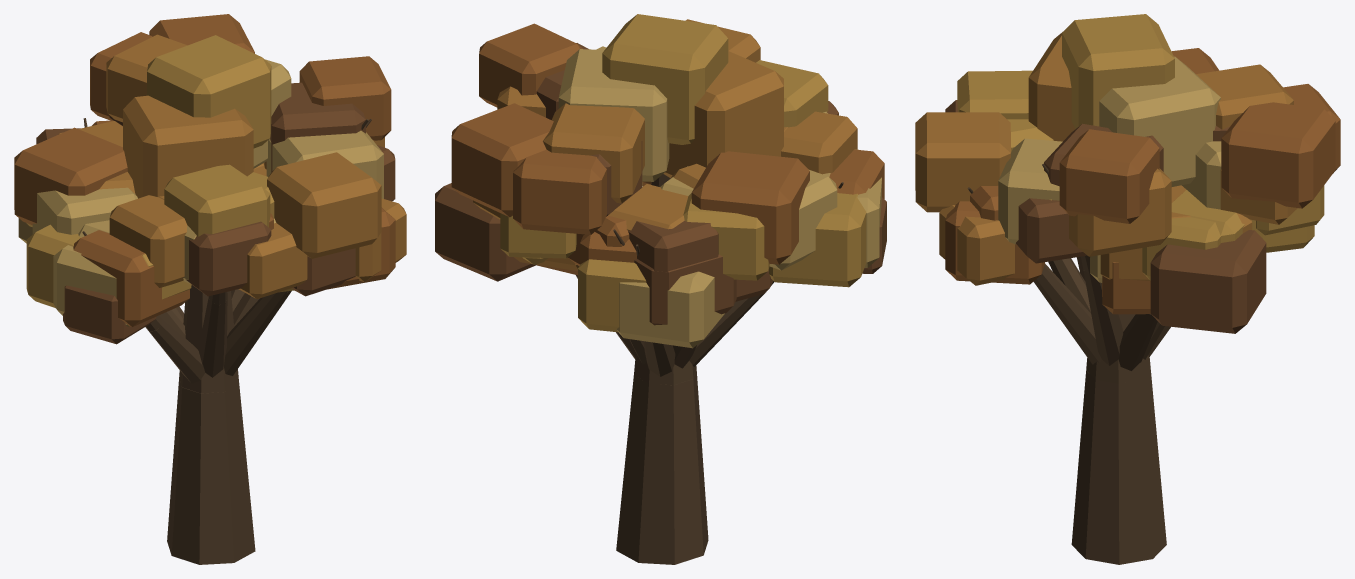
File: oak_mature_autumn_3.glb
3 renders of one model, left to right at view 1: azimuth 30°, elevation 25°; view 2: azimuth 150°, elevation 25°; view 3: azimuth 270°, elevation 25°, orthographic. The views are drawn at different scales.
Visible parts, largest first — view 1: oak_mature_autumn_3; view 2: oak_mature_autumn_3; view 3: oak_mature_autumn_3.
Part boxes in pixels (<box>): oak_mature_autumn_3: <box>14,14,406,564</box>; oak_mature_autumn_3: <box>435,14,886,564</box>; oak_mature_autumn_3: <box>915,14,1340,564</box>.
Bounding box in the file's own units: 12.99 × 17 × 12.86.
